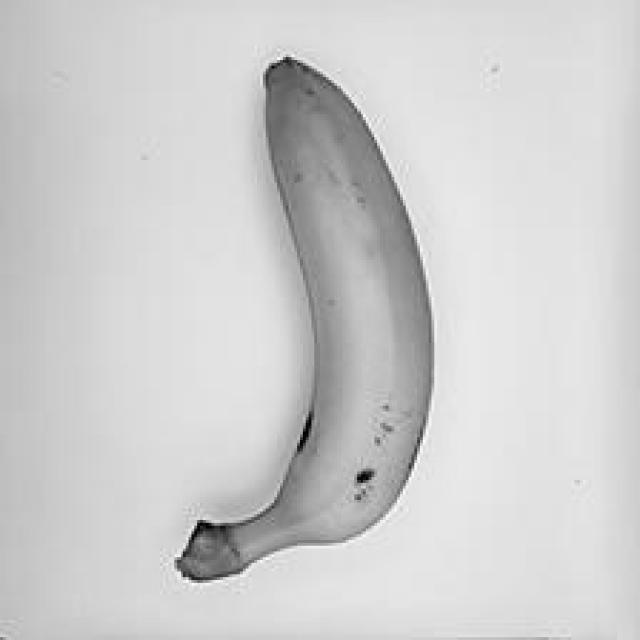Unripe: (153, 37, 454, 612)
